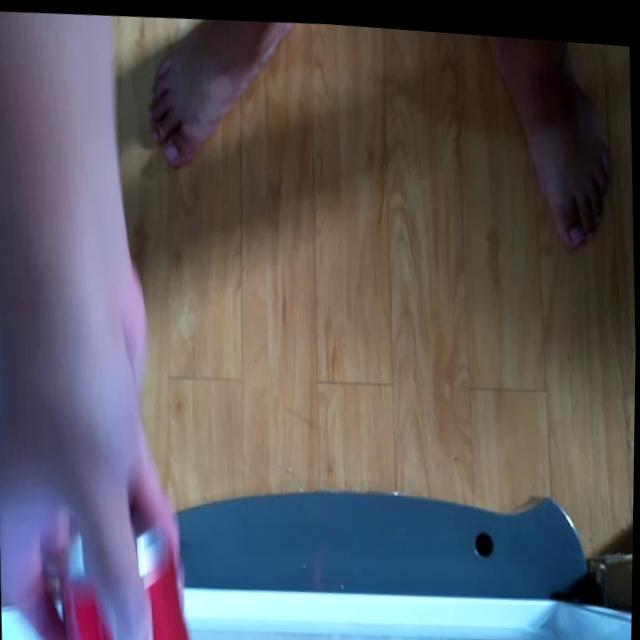coke: (62, 516, 192, 640)
